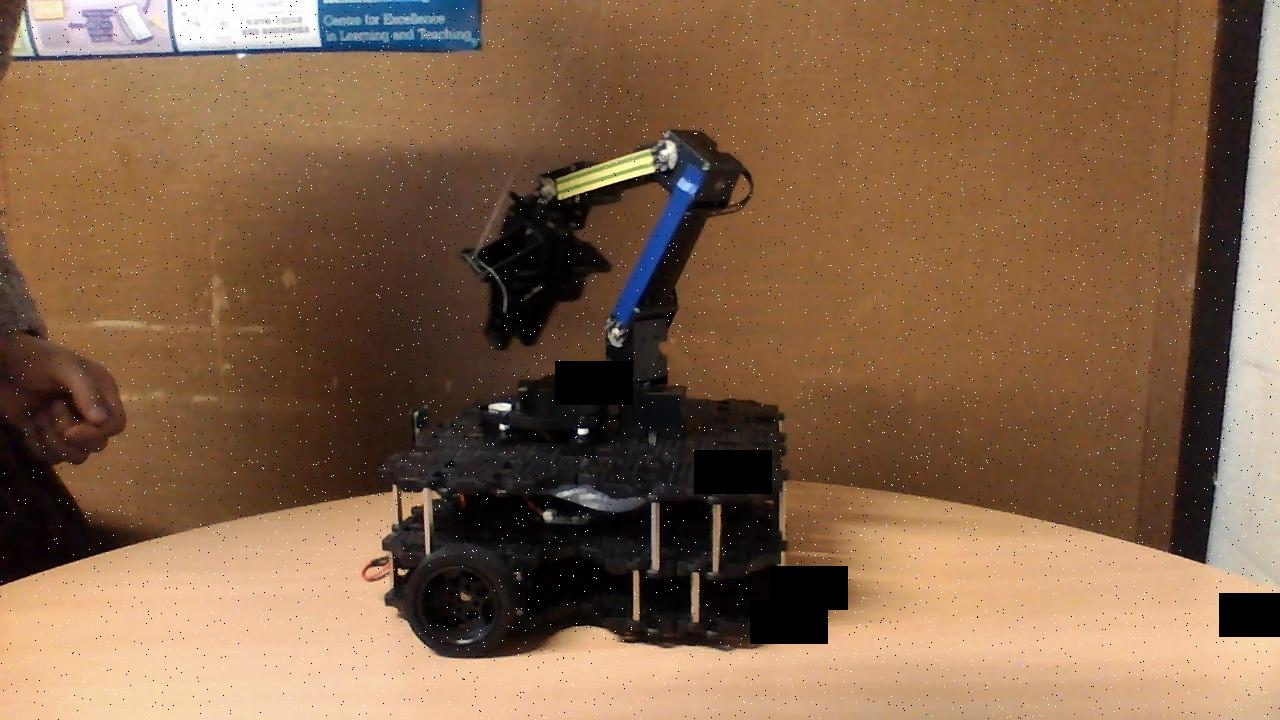Arm: (602, 132, 755, 354)
Hand: (456, 188, 619, 357)
Wrist: (530, 129, 690, 213)
base: (362, 371, 795, 661)
